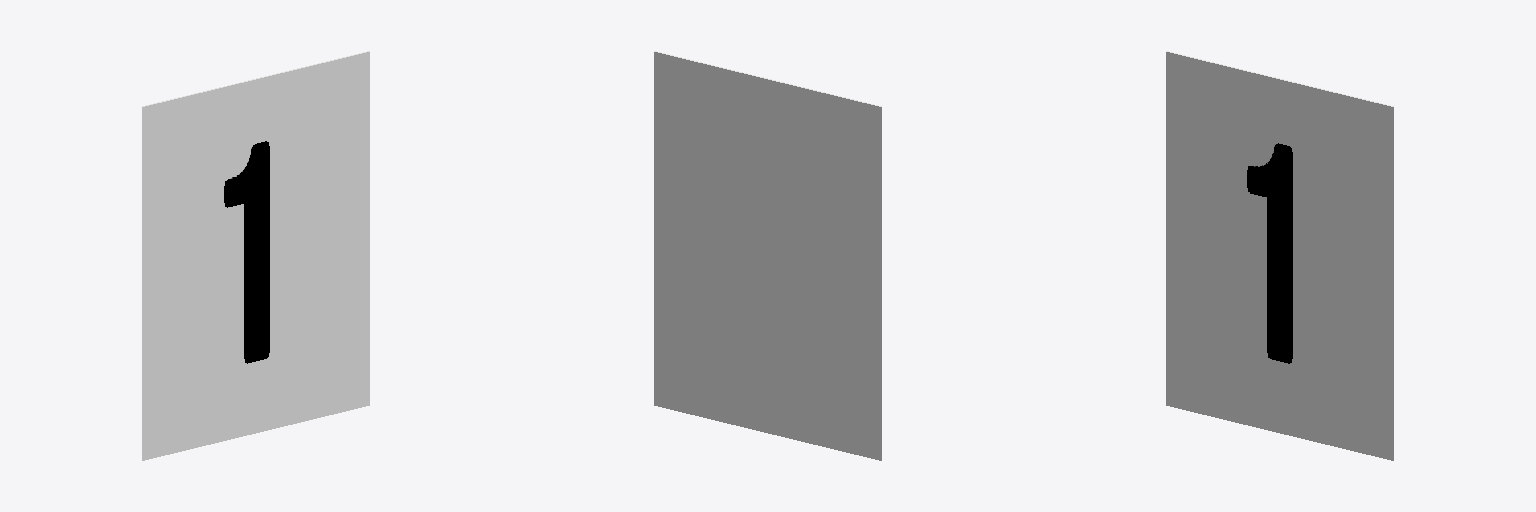
3 views of the same model, side by side, from view 1: azimuth 30°, elevation 25°; view 2: azimuth 150°, elevation 25°; view 3: azimuth 330°, elevation 25° (orthographic).
Parts seen in each view (by area): view 1: Cube; view 2: Cube; view 3: Cube.
Part boxes in pixels (bbox=[...]): Cube: bbox=[142, 51, 369, 460]; Cube: bbox=[654, 51, 881, 460]; Cube: bbox=[1166, 51, 1393, 460].
Bounding box in the file's own units: 2.94 × 4.36 × 0.02.
1 materials, 1 textured.